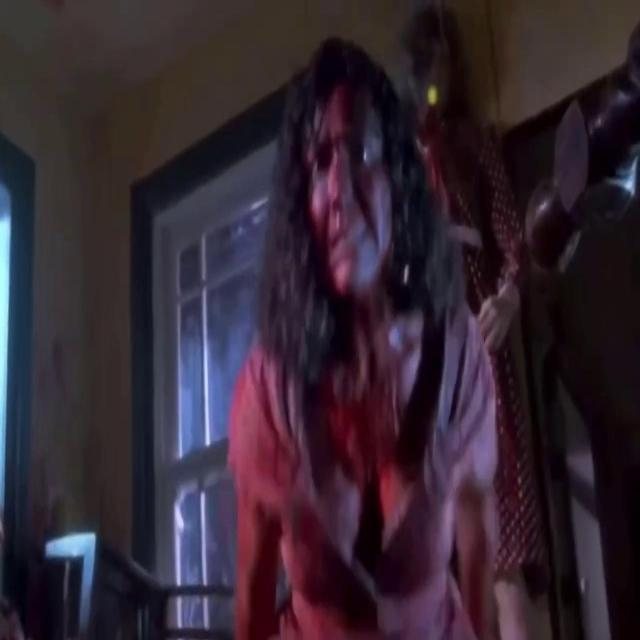flood: (238, 340, 412, 640)
